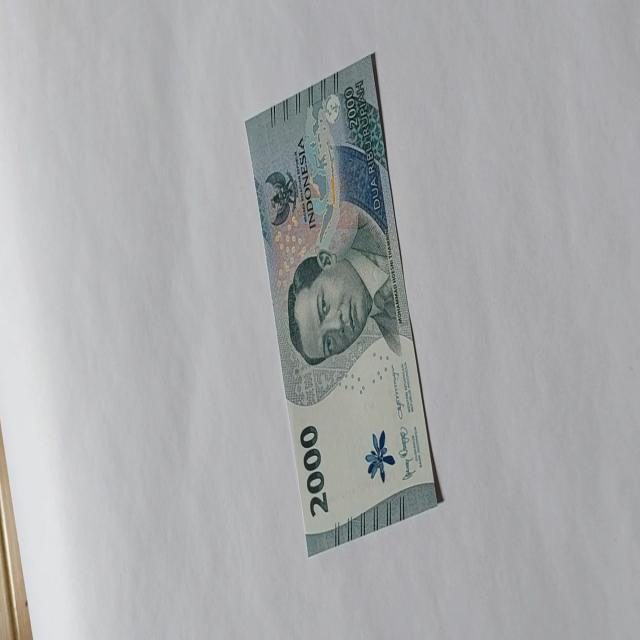dua ribu rupiah: (244, 52, 440, 556), (286, 210, 402, 368)
